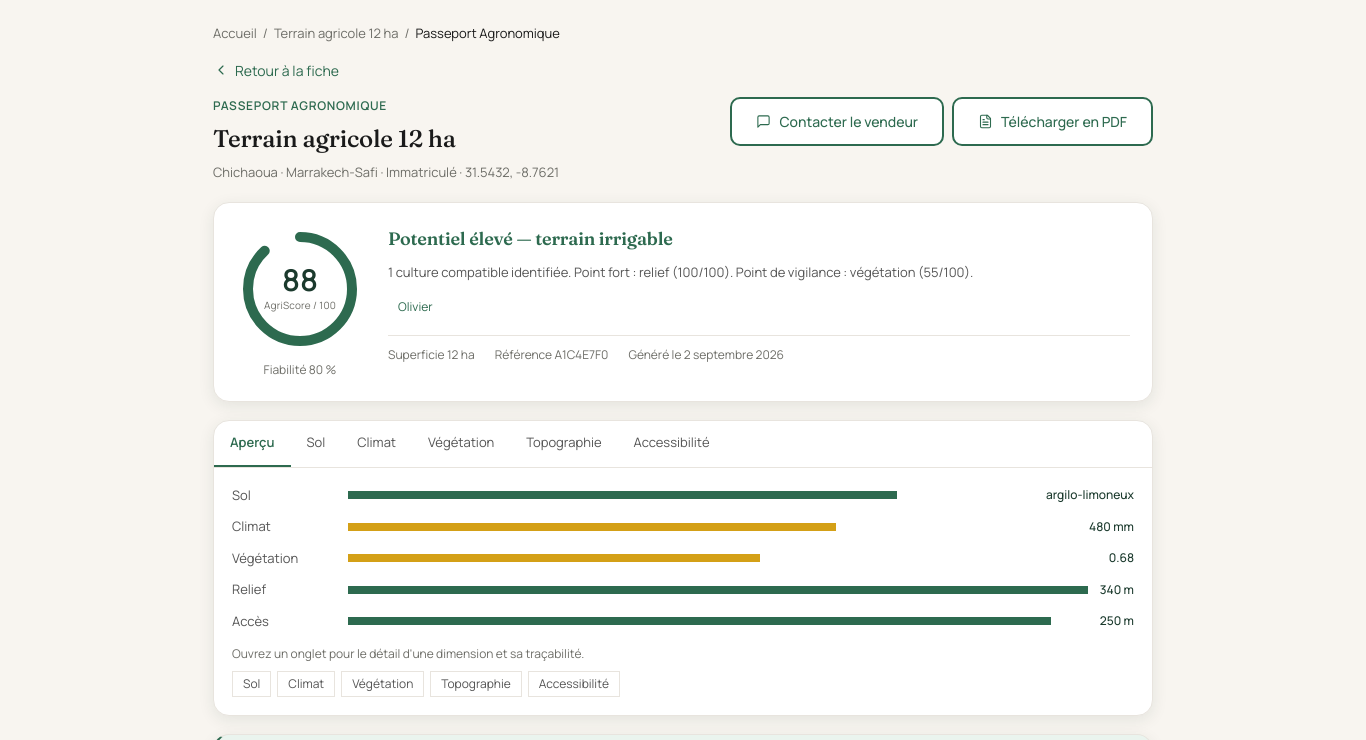
it: PasseportAgronomiqueScreen › succès → verdict, score, onglets ; clic onglet → détail + traçabilité
Expected: the heading "Potentiel élevé — terrain irrigable" is shown, [388, 227, 673, 250]
Expected: the picture named "AgriScore 88 sur 100" is shown, [236, 225, 364, 353]
Click the tab "Sol" at (316, 444), box [290, 421, 341, 466]
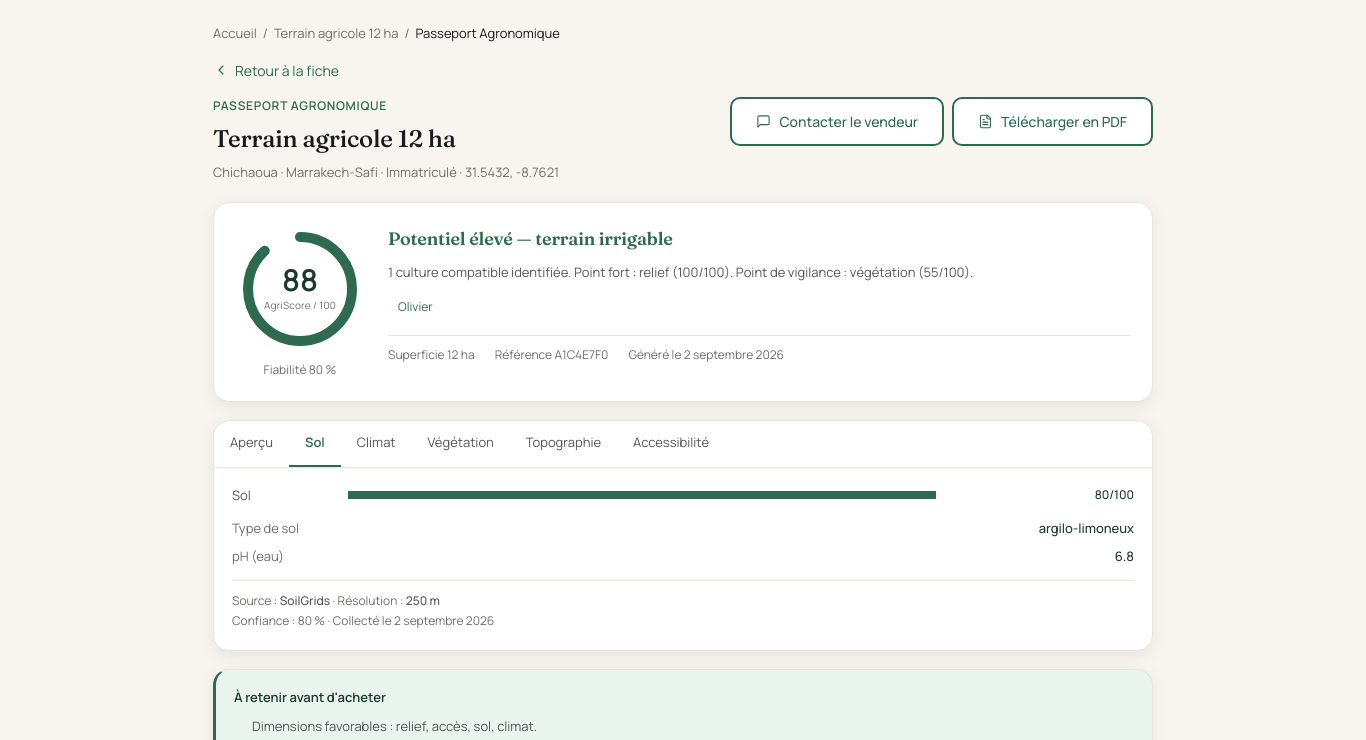
Expected: the text "argilo-limoneux" is shown, [1039, 519, 1134, 538]
Expected: the text "Type de sol" is shown, [232, 519, 299, 538]
Expected: the text "Source : SoilGrids · Résolution : 250 m" is shown, [232, 592, 440, 609]
